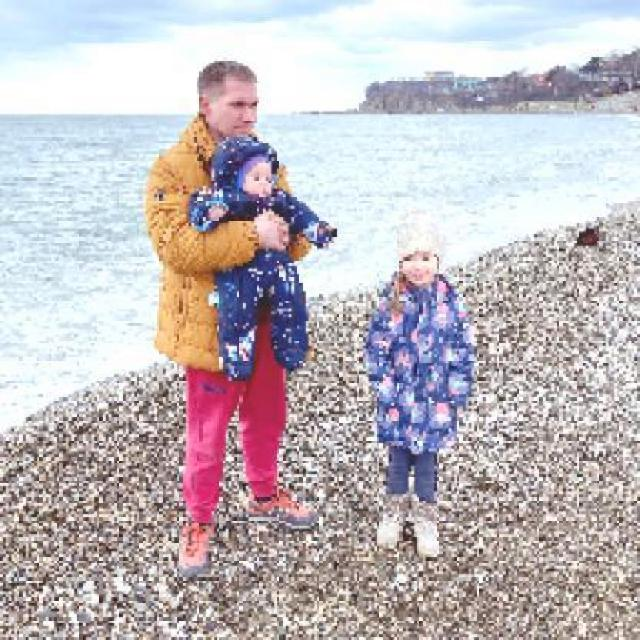child: (364, 206, 476, 560), (188, 138, 341, 378)
